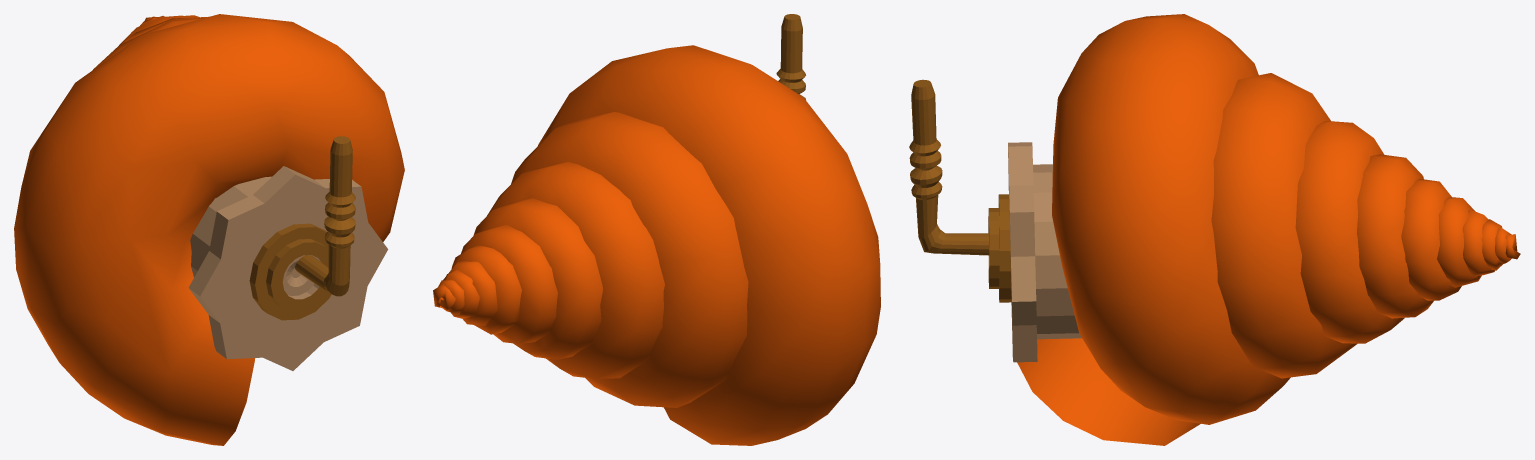
File: manivela on idle.fbx
The picture shows the model from 3 angles, left to right: view 1: azimuth 30°, elevation 25°; view 2: azimuth 150°, elevation 25°; view 3: azimuth 270°, elevation 25°; orthographic projection. The views are drawn at different scales.
Parts seen in each view (by area): view 1: búzio, roda, manípulo; view 2: búzio, manípulo; view 3: búzio, roda, manípulo.
Boxes of the visible parts, left/top/right/bottom form: búzio: left=14, top=14, right=404, bottom=445; roda: left=188, top=166, right=388, bottom=370; manípulo: left=295, top=136, right=355, bottom=296; búzio: left=433, top=45, right=880, bottom=445; manípulo: left=776, top=14, right=805, bottom=99; búzio: left=1017, top=14, right=1520, bottom=445; roda: left=988, top=142, right=1081, bottom=362; manípulo: left=909, top=79, right=989, bottom=255.
Size of the model in its own units: 200 by 213 by 280.
